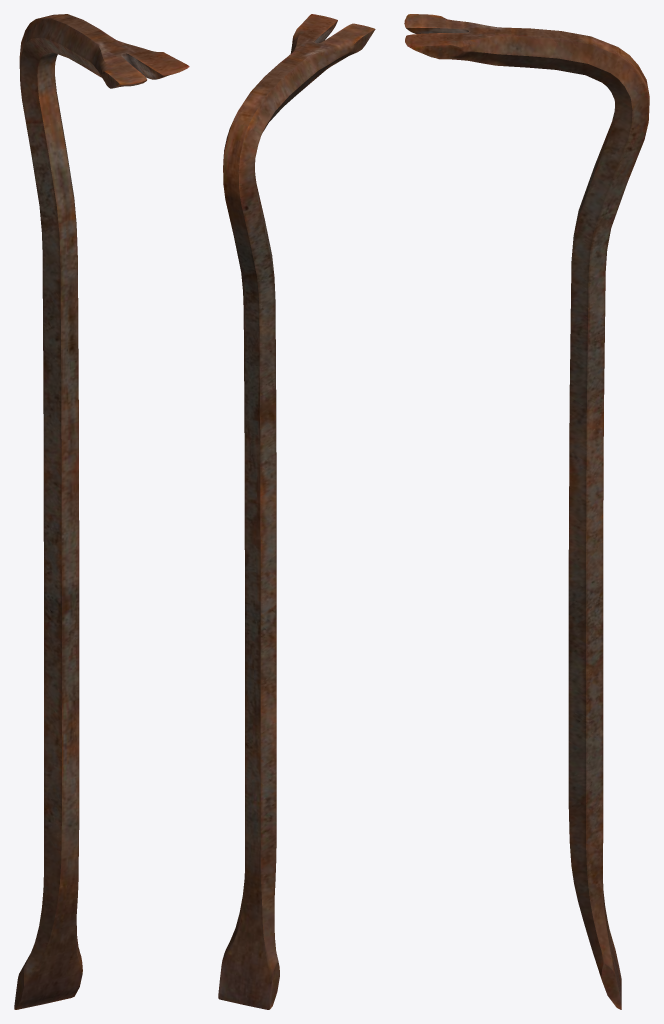
Rendered from crowbar_01.glb.
3 renders of one model, left to right at view 1: azimuth 30°, elevation 25°; view 2: azimuth 150°, elevation 25°; view 3: azimuth 270°, elevation 25°, orthographic. The views are drawn at different scales.
Parts seen in each view (by area): view 1: crowbar_01; view 2: crowbar_01; view 3: crowbar_01.
Boxes of the visible parts, x1=… form: crowbar_01: x1=14, y1=14, x2=189, y2=1009; crowbar_01: x1=218, y1=14, x2=375, y2=1009; crowbar_01: x1=404, y1=14, x2=649, y2=1009.
Size of what is drawn, in the model's own units: 0.0404 by 0.5554 by 0.1276.
1 material, 1 textured.
